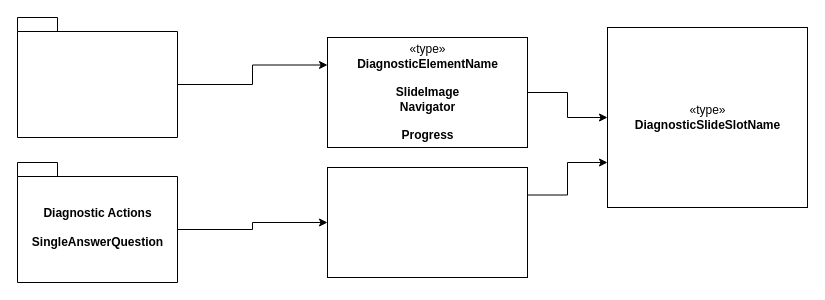
Image size: 825x300. Some labels were removed from this diagram. Each missing label, with the centre of its shape:
Diagnostic Elements SlideImage Navigator Progress: point 97,77
«type» DiagnosticActionName ACTION: point 427,222
